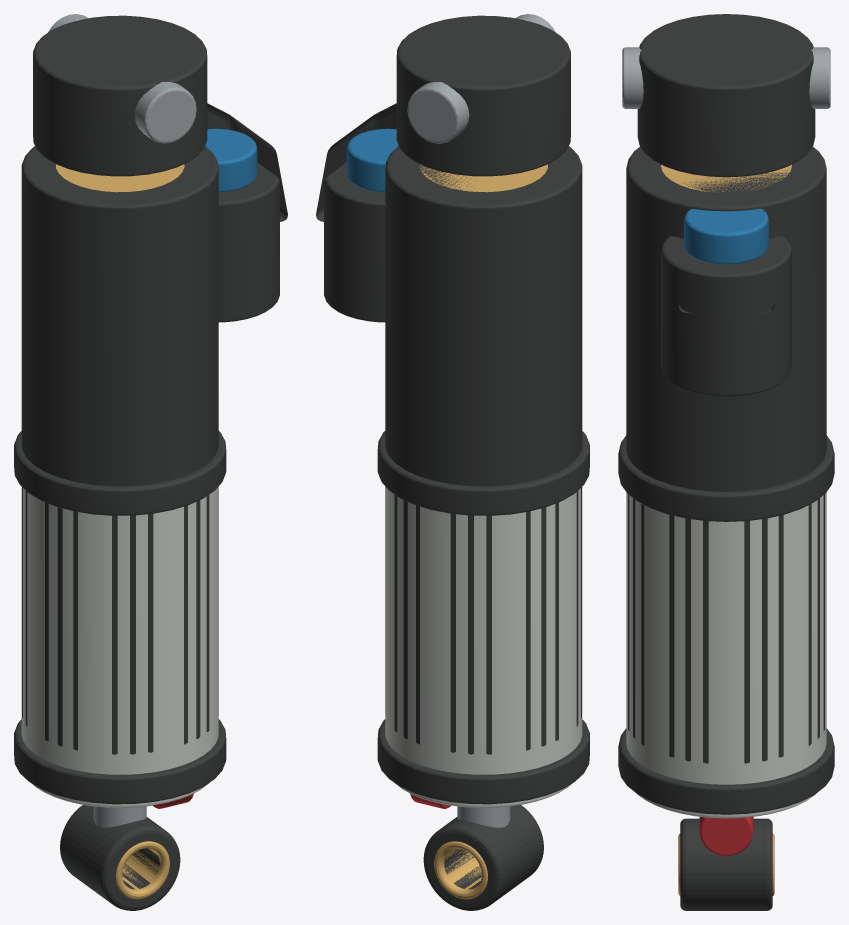
Rendered from fox-float-x2-factory-my26--1858adb1.glb.
The picture shows the model from 3 angles, left to right: view 1: azimuth 30°, elevation 25°; view 2: azimuth 150°, elevation 25°; view 3: azimuth 270°, elevation 25°; orthographic projection.
Parts seen in each view (by area): view 1: fox-float-x2-factory-my26--1858adb1__link, fox-float-x2-factory-my26--1858adb1__frame, fox-float-x2-factory-my26--1858adb1__bolts, fox-float-x2-factory-my26--1858adb1__stanchions, fox-float-x2-factory-my26--1858adb1__adjuster; view 2: fox-float-x2-factory-my26--1858adb1__link, fox-float-x2-factory-my26--1858adb1__frame, fox-float-x2-factory-my26--1858adb1__bolts, fox-float-x2-factory-my26--1858adb1__stanchions, fox-float-x2-factory-my26--1858adb1__adjuster; view 3: fox-float-x2-factory-my26--1858adb1__link, fox-float-x2-factory-my26--1858adb1__frame, fox-float-x2-factory-my26--1858adb1__adjuster, fox-float-x2-factory-my26--1858adb1__bolts, fox-float-x2-factory-my26--1858adb1__stanchions, fox-float-x2-factory-my26--1858adb1__rebound.
Part boxes in pixels (<box>): fox-float-x2-factory-my26--1858adb1__link: <box>14,15,287,910</box>; fox-float-x2-factory-my26--1858adb1__frame: <box>21,487,218,807</box>; fox-float-x2-factory-my26--1858adb1__bolts: <box>48,14,196,827</box>; fox-float-x2-factory-my26--1858adb1__stanchions: <box>56,164,184,899</box>; fox-float-x2-factory-my26--1858adb1__adjuster: <box>205,128,257,192</box>; fox-float-x2-factory-my26--1858adb1__link: <box>316,15,589,910</box>; fox-float-x2-factory-my26--1858adb1__frame: <box>385,487,582,807</box>; fox-float-x2-factory-my26--1858adb1__bolts: <box>407,14,555,827</box>; fox-float-x2-factory-my26--1858adb1__stanchions: <box>420,164,547,899</box>; fox-float-x2-factory-my26--1858adb1__adjuster: <box>346,128,398,192</box>; fox-float-x2-factory-my26--1858adb1__link: <box>618,14,834,910</box>; fox-float-x2-factory-my26--1858adb1__frame: <box>626,492,826,818</box>; fox-float-x2-factory-my26--1858adb1__adjuster: <box>684,208,768,264</box>; fox-float-x2-factory-my26--1858adb1__bolts: <box>622,47,830,818</box>; fox-float-x2-factory-my26--1858adb1__stanchions: <box>661,164,791,895</box>; fox-float-x2-factory-my26--1858adb1__rebound: <box>699,817,753,856</box>.
Bounding box in the file's own units: 0.074 × 0.245 × 0.056.
